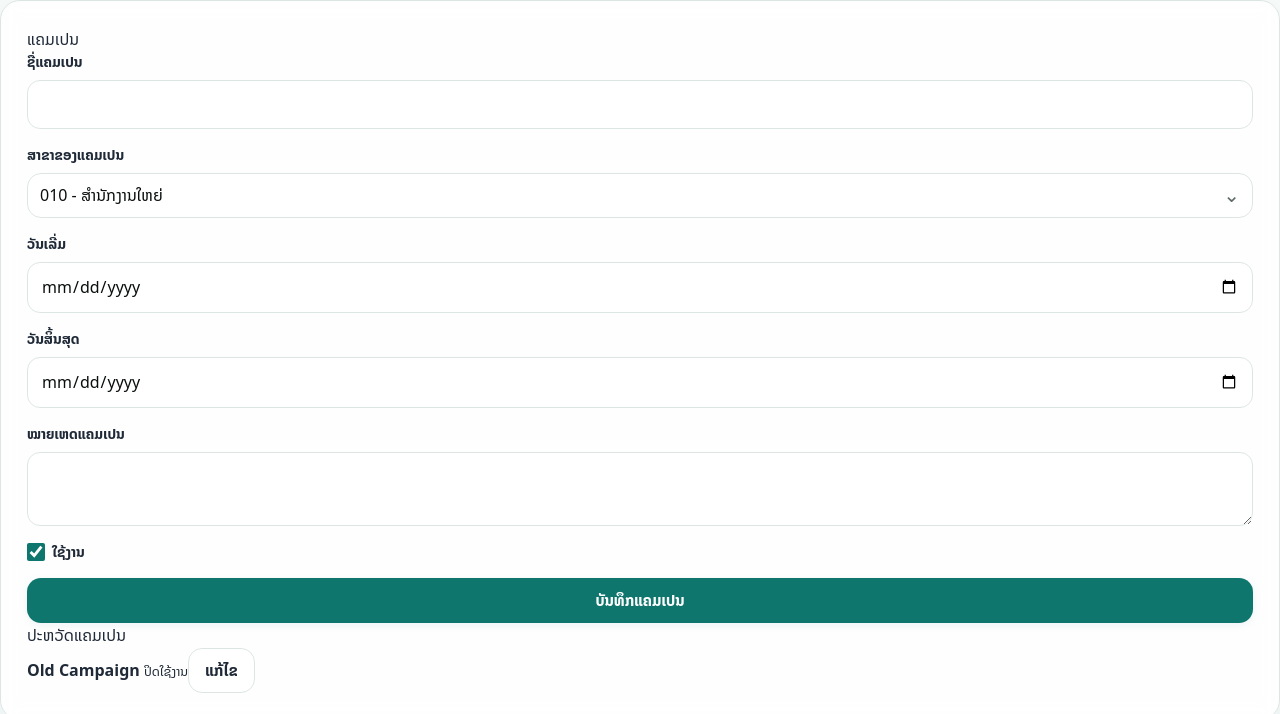
Test: GiftCampaignAdmin › requires a valid ordered campaign date range and lets Admin choose the branch
Expected: the dropdown named "ສາຂາຂອງແຄມເປນ" is enabled, top-left (27, 173), bottom-right (1253, 218)
In the field labelled "ຊື່ແຄມເປນ": x=640, y=104 top-left (27, 80), bottom-right (1253, 129), type "New Campaign"
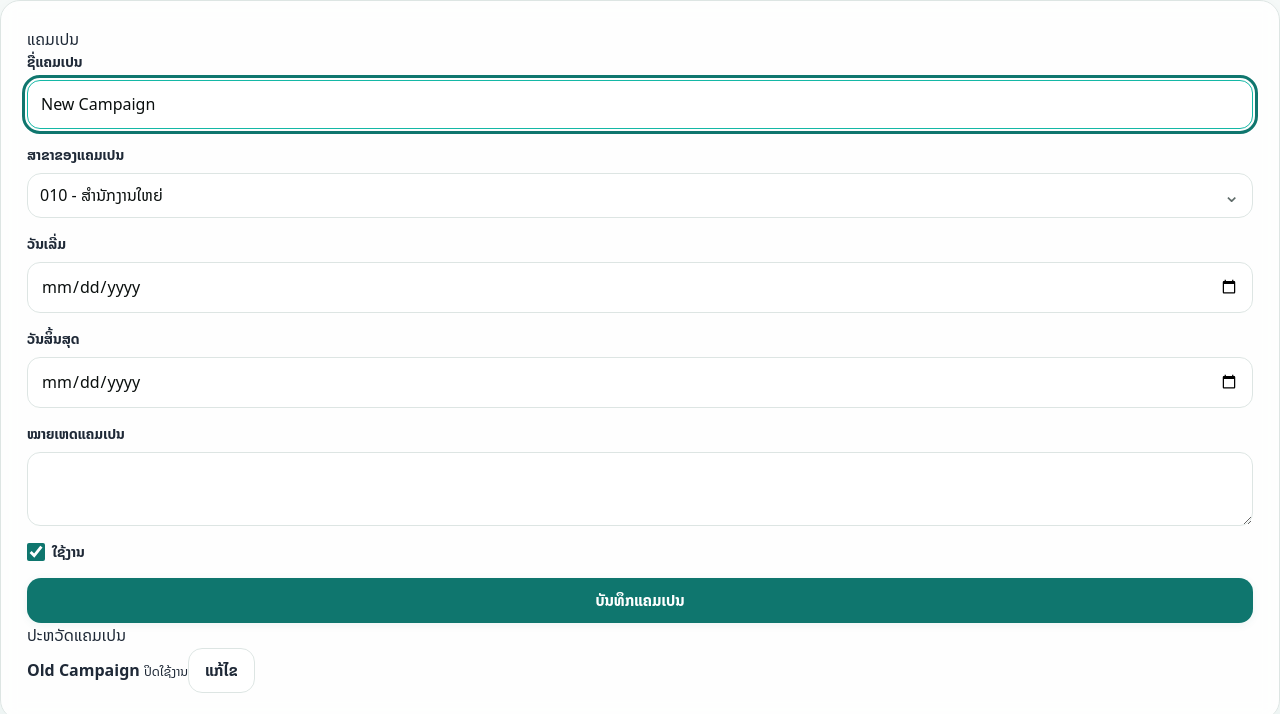
In the date field labelled "ວັນເລີ່ມ": x=640, y=287 top-left (27, 262), bottom-right (1253, 313), type "2026-12-31"
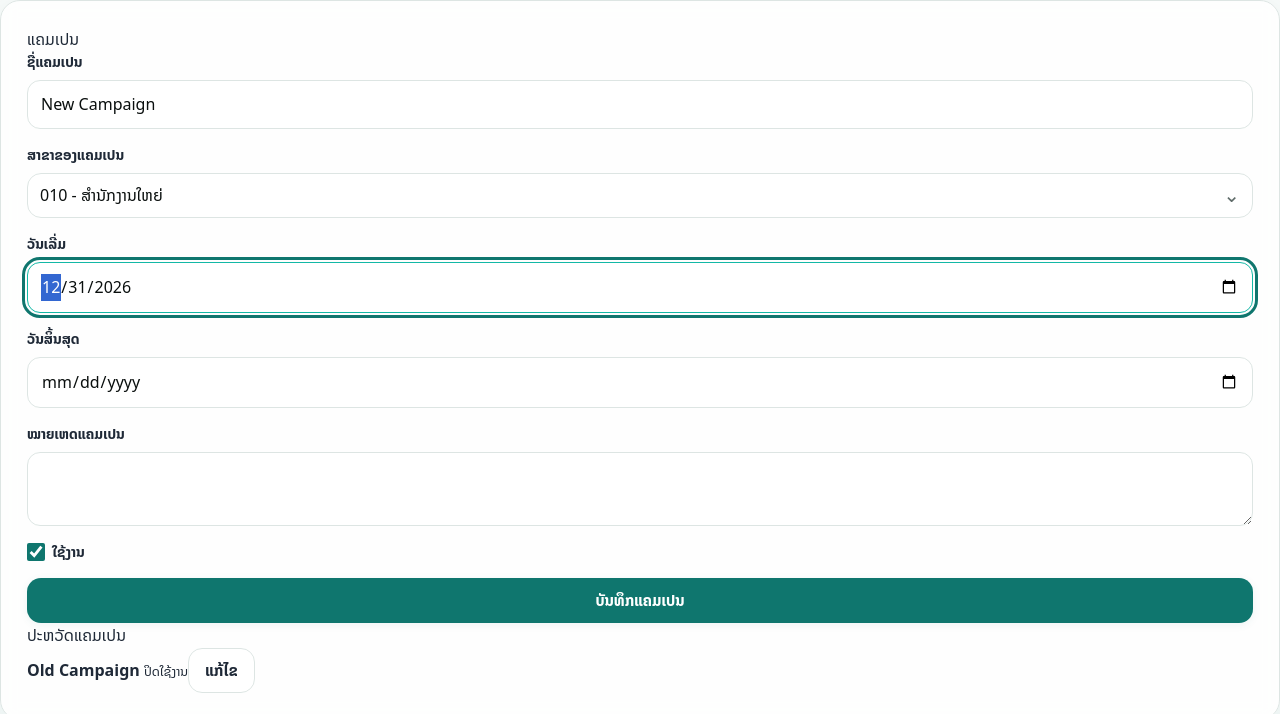
In the date field labelled "ວັນສິ້ນສຸດ": x=640, y=382 top-left (27, 357), bottom-right (1253, 408), type "2026-01-01"
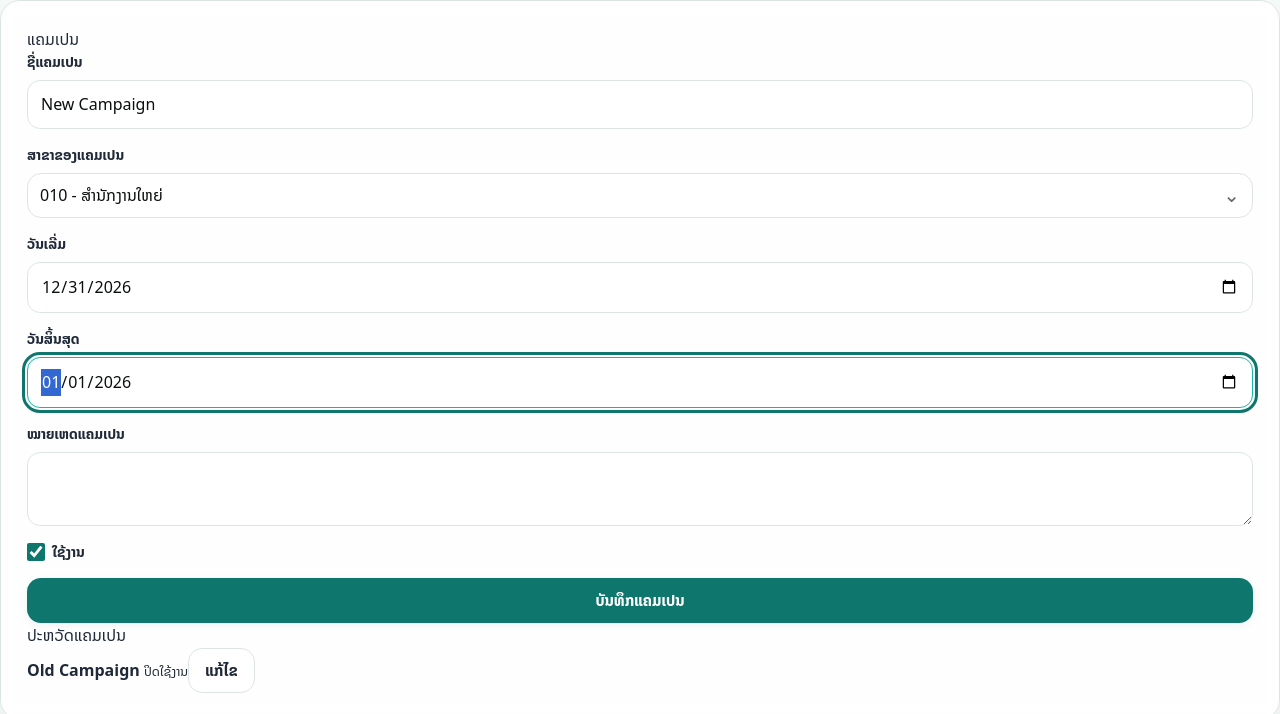
Click the button "ບັນທຶກແຄມເປນ": x=640, y=601 top-left (27, 578), bottom-right (1253, 623)
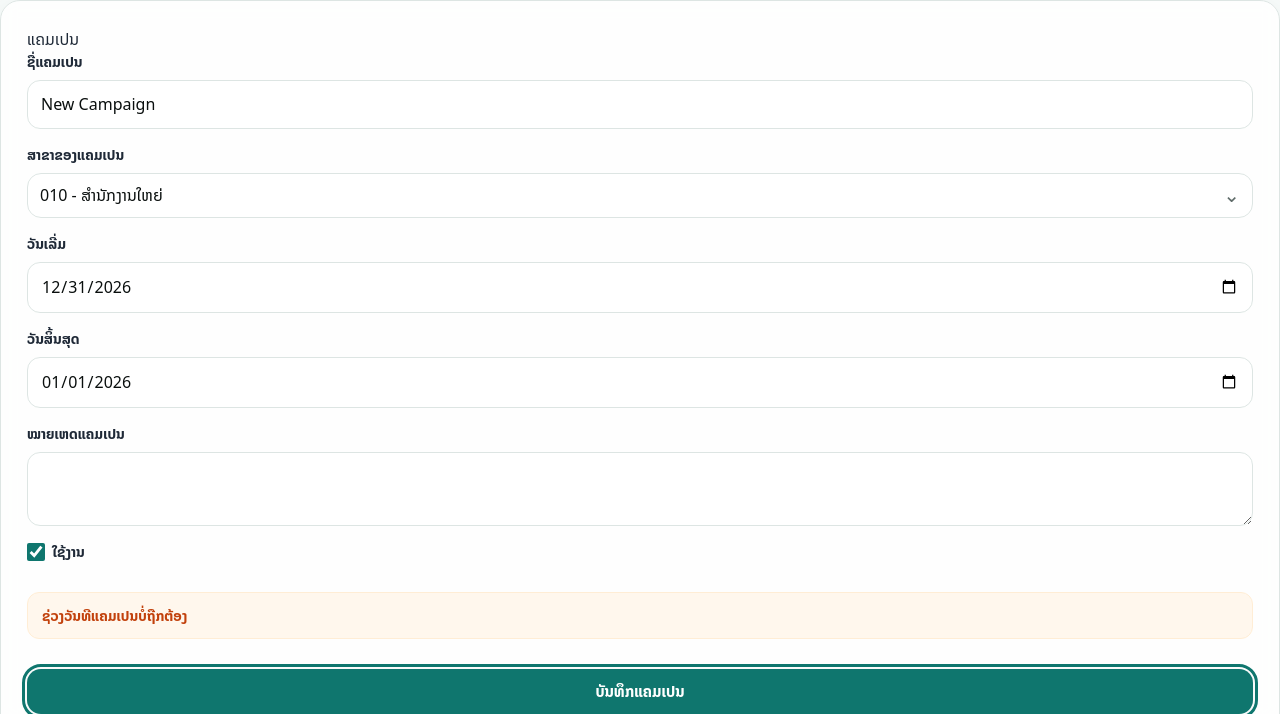
Now the message shows "ຊ່ວງວັນທີ", box top-left (42, 604), bottom-right (187, 627)
